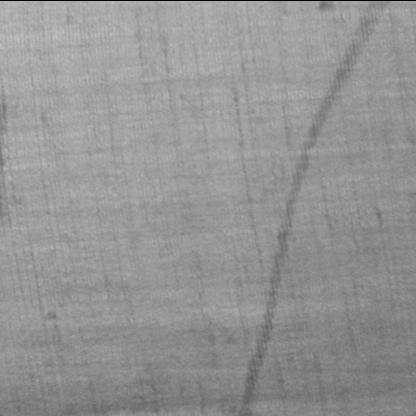oil spot: (233, 1, 394, 415)
